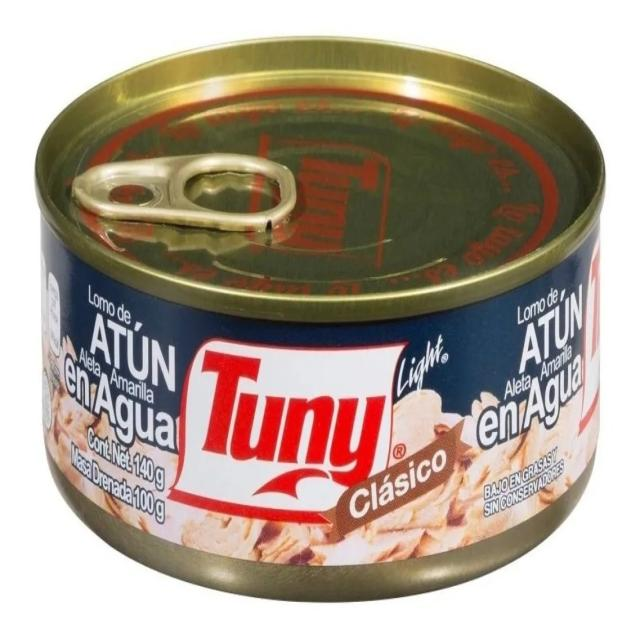Lata: (16, 29, 605, 600)
